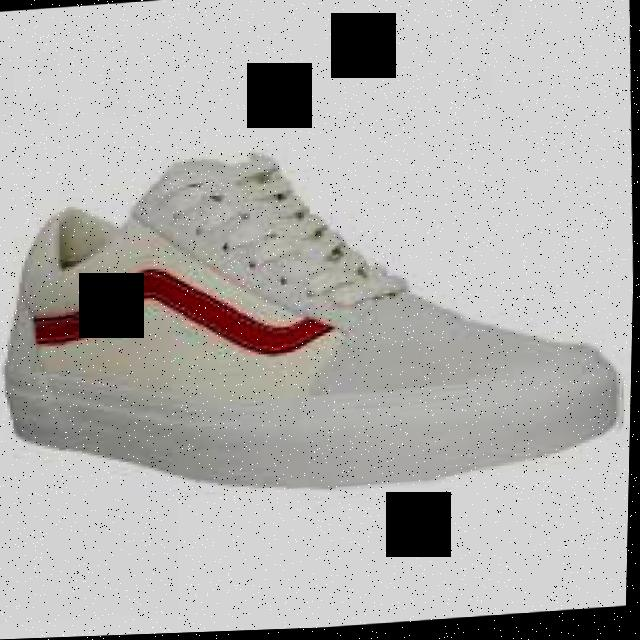shoe: (0, 120, 635, 519)
